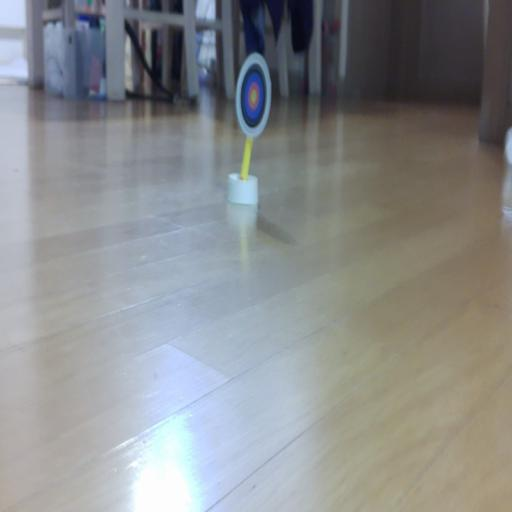target: (235, 53, 271, 138)
